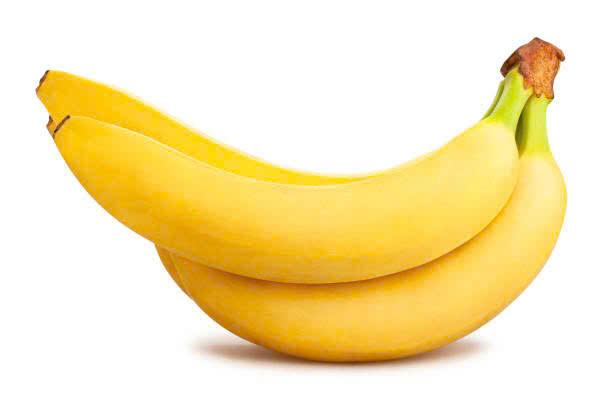banana: (23, 41, 573, 368)
